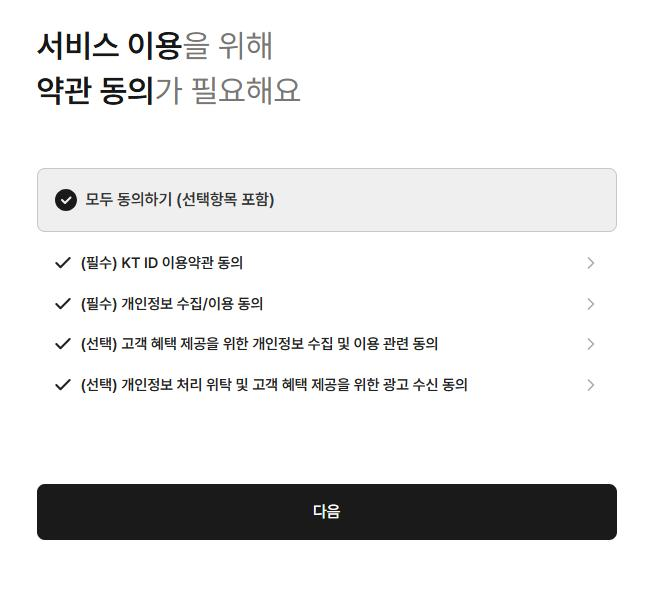button: (37, 489, 619, 537)
checkbox: (38, 166, 613, 233), (41, 241, 618, 288), (41, 284, 616, 330), (46, 372, 613, 409), (42, 332, 615, 367)
